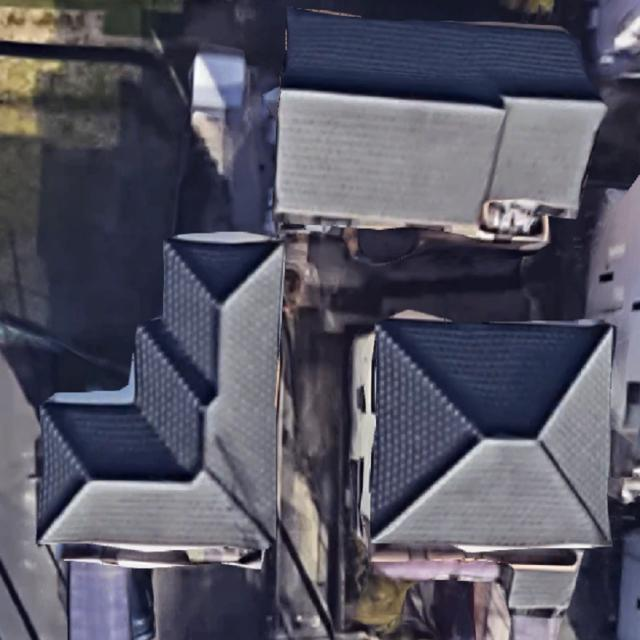Batiment: (38, 232, 284, 568), (275, 9, 606, 249), (370, 319, 612, 546), (379, 442, 384, 448)
